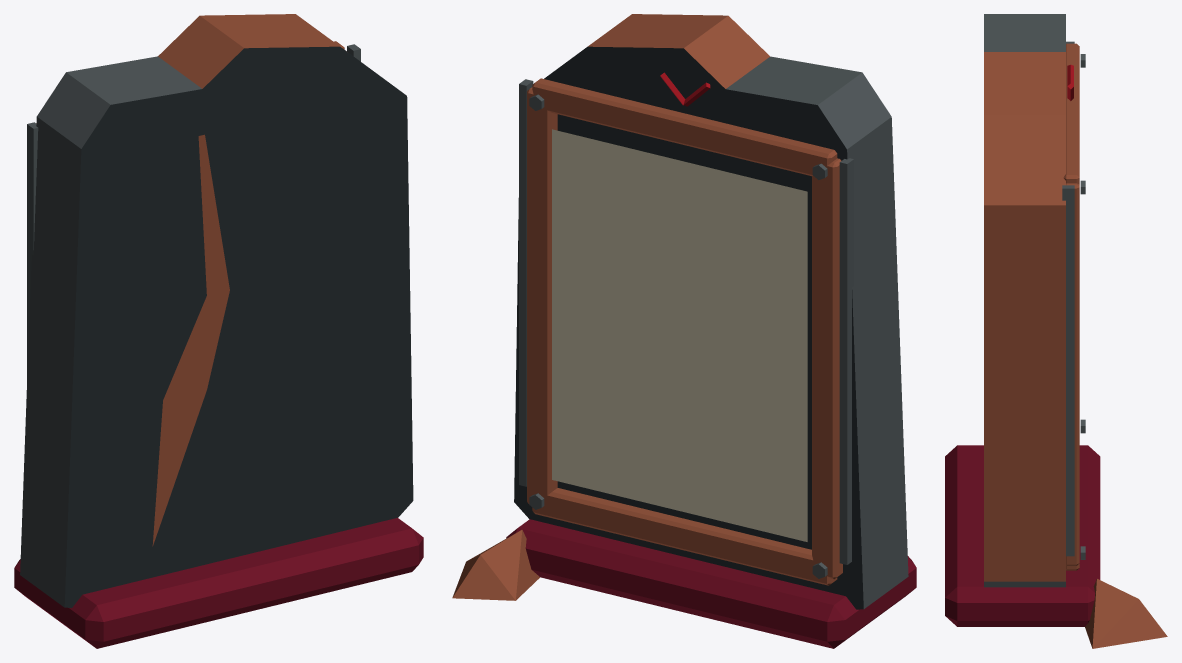
Rendered from mural_slab.fbx.
3 views of the same model, side by side, from view 1: azimuth 30°, elevation 25°; view 2: azimuth 150°, elevation 25°; view 3: azimuth 270°, elevation 25° (orthographic). The views are drawn at different scales.
Parts seen in each view (by area): view 1: broken_slab, drowned_foot, rear_fault, edge_moulding; view 2: picture, broken_slab, drowned_foot, picture_border, picture_border.001, picture_border.003, picture_border.002, edge_moulding, fallen_corner, edge_moulding.001; view 3: broken_slab, drowned_foot, fallen_corner, edge_moulding.001, picture_border.001, picture_border.003.
Boxes of the visible parts, box(x1,y1,x2,y2) form: broken_slab: box(20, 14, 413, 607); drowned_foot: box(14, 517, 423, 648); rear_fault: box(152, 134, 229, 546); edge_moulding: box(27, 122, 38, 380); picture: box(552, 129, 807, 541); broken_slab: box(514, 14, 908, 609); drowned_foot: box(506, 519, 916, 648); picture_border: box(812, 158, 842, 579); picture_border.001: box(527, 87, 557, 507); picture_border.003: box(532, 78, 837, 176); picture_border.002: box(532, 488, 837, 585); edge_moulding: box(839, 158, 853, 564); fallen_corner: box(452, 530, 539, 600); edge_moulding.001: box(519, 79, 533, 486); broken_slab: box(984, 14, 1065, 587); drowned_foot: box(945, 445, 1100, 626); fallen_corner: box(1085, 579, 1167, 648); edge_moulding.001: box(1062, 185, 1074, 556); picture_border.001: box(1066, 183, 1079, 565); picture_border.003: box(1063, 43, 1079, 184).
Bounding box in the file's own units: 1.83 × 2.52 × 1.
